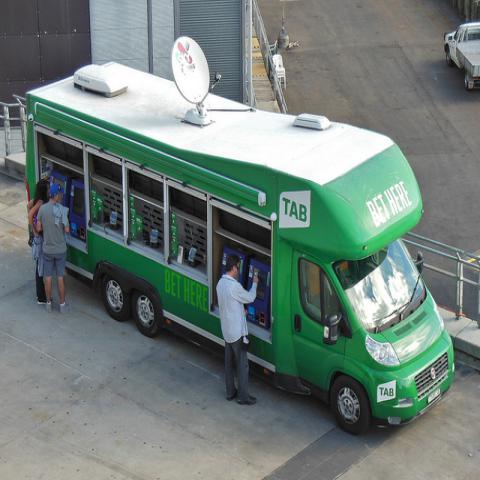bus: (28, 57, 465, 427)
truck: (442, 21, 480, 88)
